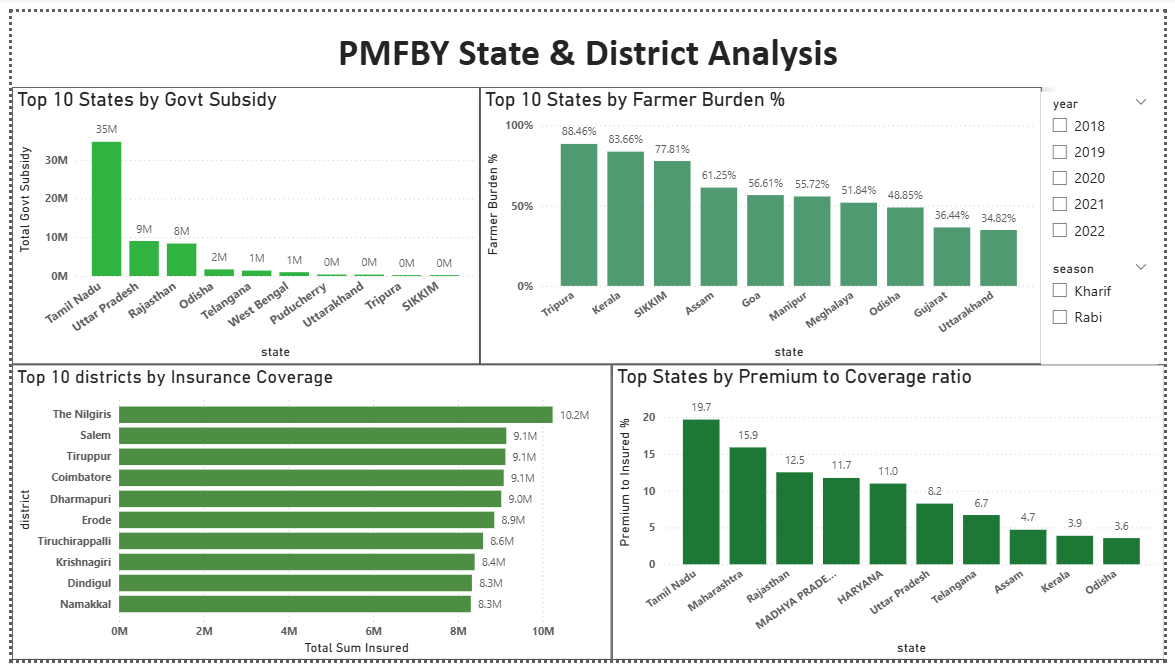

What the dashboard file says about the page in this screenshot:
{"tool":"powerbi","page":{"name":"State & District Analysis","canvas":[1280,720],"ordinal":2},"visuals":[{"type":"clusteredColumnChart","title":"Top 10 States by Govt Subsidy","fields":{"Category":["PMFBY_crop_insurance_analytics_dashboard.state"],"Y":["PMFBY_crop_insurance_analytics_dashboard.Total Govt Subsidy"]},"box":[0,84,520,308],"z":0},{"type":"clusteredColumnChart","title":"Top 10 States by Farmer Burden %","fields":{"Category":["PMFBY_crop_insurance_analytics_dashboard.state"],"Y":["PMFBY_crop_insurance_analytics_dashboard.Farmer Burden %"]},"box":[520,84,624,308],"z":1000},{"type":"clusteredColumnChart","title":"Top States by Premium to Coverage ratio","fields":{"Category":["PMFBY_crop_insurance_analytics_dashboard.state"],"Y":["PMFBY_crop_insurance_analytics_dashboard.Premium to Insured %"]},"box":[666,392,614,328],"z":2000},{"type":"clusteredBarChart","title":"Top 10 districts by Insurance Coverage","fields":{"Category":["PMFBY_crop_insurance_analytics_dashboard.district"],"Y":["PMFBY_crop_insurance_analytics_dashboard.Total Sum Insured"]},"box":[0,392,666,328],"z":3000},{"type":"slicer","fields":{"Values":["PMFBY_crop_insurance_analytics_dashboard.year"]},"box":[1144,88,130,184],"z":4000},{"type":"slicer","fields":{"Values":["PMFBY_crop_insurance_analytics_dashboard.season"]},"box":[1144,272,130,120],"z":5000},{"type":"textbox","box":[0,14,1280,70],"z":6000}]}

Visuals, with their boxes in screenshot pixels (x1, y1, x2, y2), scaled from the page's 1280x720 canvas onto the 1175x671 screenshot:
"Top 10 States by Govt Subsidy" clusteredColumnChart: BBox(0, 78, 477, 365)
"Top 10 States by Farmer Burden %" clusteredColumnChart: BBox(477, 78, 1050, 365)
"Top States by Premium to Coverage ratio" clusteredColumnChart: BBox(611, 365, 1174, 670)
"Top 10 districts by Insurance Coverage" clusteredBarChart: BBox(0, 365, 611, 670)
slicer - PMFBY_crop_insurance_analytics_dashboard.year: BBox(1050, 82, 1169, 253)
slicer - PMFBY_crop_insurance_analytics_dashboard.season: BBox(1050, 253, 1169, 365)
textbox: BBox(0, 13, 1174, 78)
